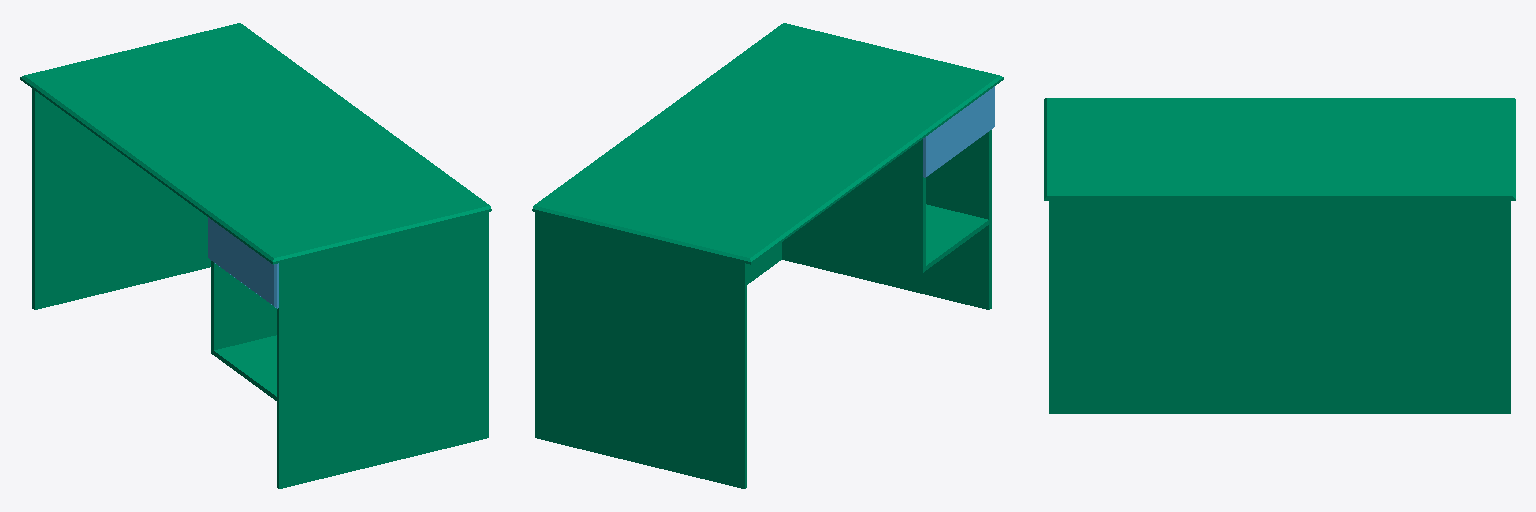
URDF robot description (partnet_29f110b8740bd8068c427edcde5d5e2b):
<?xml version="1.0" ?>
<robot name="partnet_29f110b8740bd8068c427edcde5d5e2b">
	<link name="base"/>
	<link name="link_0">
		<visual name="drawer_bottom-16">
			<origin xyz="0 0 0"/>
			<geometry>
				<mesh filename="textured_objs/original-12.obj"/>
			</geometry>
		</visual>
		<visual name="drawer_front-17">
			<origin xyz="0 0 0"/>
			<geometry>
				<mesh filename="textured_objs/original-8.obj"/>
			</geometry>
		</visual>
		<visual name="drawer_side-18">
			<origin xyz="0 0 0"/>
			<geometry>
				<mesh filename="textured_objs/original-9.obj"/>
			</geometry>
		</visual>
		<visual name="drawer_side-19">
			<origin xyz="0 0 0"/>
			<geometry>
				<mesh filename="textured_objs/original-10.obj"/>
			</geometry>
		</visual>
		<visual name="drawer_back-20">
			<origin xyz="0 0 0"/>
			<geometry>
				<mesh filename="textured_objs/original-11.obj"/>
			</geometry>
		</visual>
		<collision>
			<origin xyz="0 0 0"/>
			<geometry>
				<mesh filename="textured_objs/original-12.obj"/>
			</geometry>
		</collision>
		<collision>
			<origin xyz="0 0 0"/>
			<geometry>
				<mesh filename="textured_objs/original-8.obj"/>
			</geometry>
		</collision>
		<collision>
			<origin xyz="0 0 0"/>
			<geometry>
				<mesh filename="textured_objs/original-9.obj"/>
			</geometry>
		</collision>
		<collision>
			<origin xyz="0 0 0"/>
			<geometry>
				<mesh filename="textured_objs/original-10.obj"/>
			</geometry>
		</collision>
		<collision>
			<origin xyz="0 0 0"/>
			<geometry>
				<mesh filename="textured_objs/original-11.obj"/>
			</geometry>
		</collision>
	</link>
	<joint name="joint_0" type="prismatic">
		<origin xyz="0 0 0"/>
		<axis xyz="0 0 1"/>
		<child link="link_0"/>
		<parent link="link_1"/>
		<limit lower="0" upper="0.5760000000000001"/>
	</joint>
	<link name="link_1">
		<visual name="board-22">
			<origin xyz="0 0 0"/>
			<geometry>
				<mesh filename="textured_objs/original-2.obj"/>
			</geometry>
		</visual>
		<visual name="vertical_side_panel-6">
			<origin xyz="0 0 0"/>
			<geometry>
				<mesh filename="textured_objs/original-1.obj"/>
			</geometry>
		</visual>
		<visual name="vertical_side_panel-7">
			<origin xyz="0 0 0"/>
			<geometry>
				<mesh filename="textured_objs/original-5.obj"/>
			</geometry>
		</visual>
		<visual name="vertical_side_panel-8">
			<origin xyz="0 0 0"/>
			<geometry>
				<mesh filename="textured_objs/original-4.obj"/>
			</geometry>
		</visual>
		<visual name="shelf-11">
			<origin xyz="0 0 0"/>
			<geometry>
				<mesh filename="textured_objs/original-6.obj"/>
			</geometry>
		</visual>
		<visual name="back_panel-12">
			<origin xyz="0 0 0"/>
			<geometry>
				<mesh filename="textured_objs/original-3.obj"/>
			</geometry>
		</visual>
		<collision>
			<origin xyz="0 0 0"/>
			<geometry>
				<mesh filename="textured_objs/original-2.obj"/>
			</geometry>
		</collision>
		<collision>
			<origin xyz="0 0 0"/>
			<geometry>
				<mesh filename="textured_objs/original-1.obj"/>
			</geometry>
		</collision>
		<collision>
			<origin xyz="0 0 0"/>
			<geometry>
				<mesh filename="textured_objs/original-5.obj"/>
			</geometry>
		</collision>
		<collision>
			<origin xyz="0 0 0"/>
			<geometry>
				<mesh filename="textured_objs/original-4.obj"/>
			</geometry>
		</collision>
		<collision>
			<origin xyz="0 0 0"/>
			<geometry>
				<mesh filename="textured_objs/original-6.obj"/>
			</geometry>
		</collision>
		<collision>
			<origin xyz="0 0 0"/>
			<geometry>
				<mesh filename="textured_objs/original-3.obj"/>
			</geometry>
		</collision>
	</link>
	<joint name="joint_1" type="fixed">
		<origin rpy="1.570796326794897 0 -1.570796326794897" xyz="0 0 0"/>
		<child link="link_1"/>
		<parent link="base"/>
	</joint>
</robot>

--- Render facts (derived) ---
3 views of the same robot in one strip: view 1: azimuth 30°, elevation 25°; view 2: azimuth 150°, elevation 25°; view 3: azimuth 270°, elevation 25° (orthographic).
Model partnet_29f110b8740bd8068c427edcde5d5e2b with 3 links and 2 joints (1 prismatic, 1 fixed), rooted at base, posed all joints at 0.
Links seen in each view (by area): view 1: link_1, link_0; view 2: link_1, link_0; view 3: link_1.
Link boxes in pixels (left/top/right/bottom): link_1: left=20, top=23, right=491, bottom=488; link_0: left=208, top=217, right=278, bottom=308; link_1: left=532, top=23, right=1003, bottom=488; link_0: left=923, top=86, right=994, bottom=177; link_1: left=1044, top=98, right=1515, bottom=413.
Size in the robot's own frame: 0.7622 by 1.52 by 0.7781 metres.
11 mesh visuals loaded from 11 distinct referenced files (11 OBJ).
